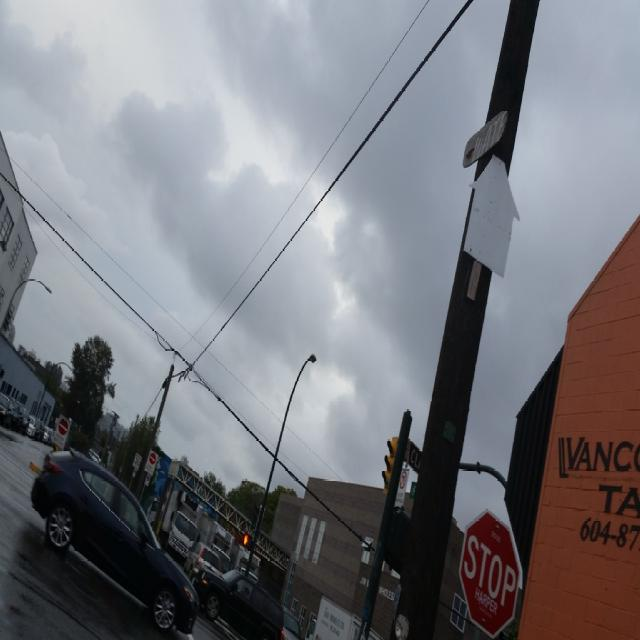Stop-sign: (458, 506, 522, 640)
